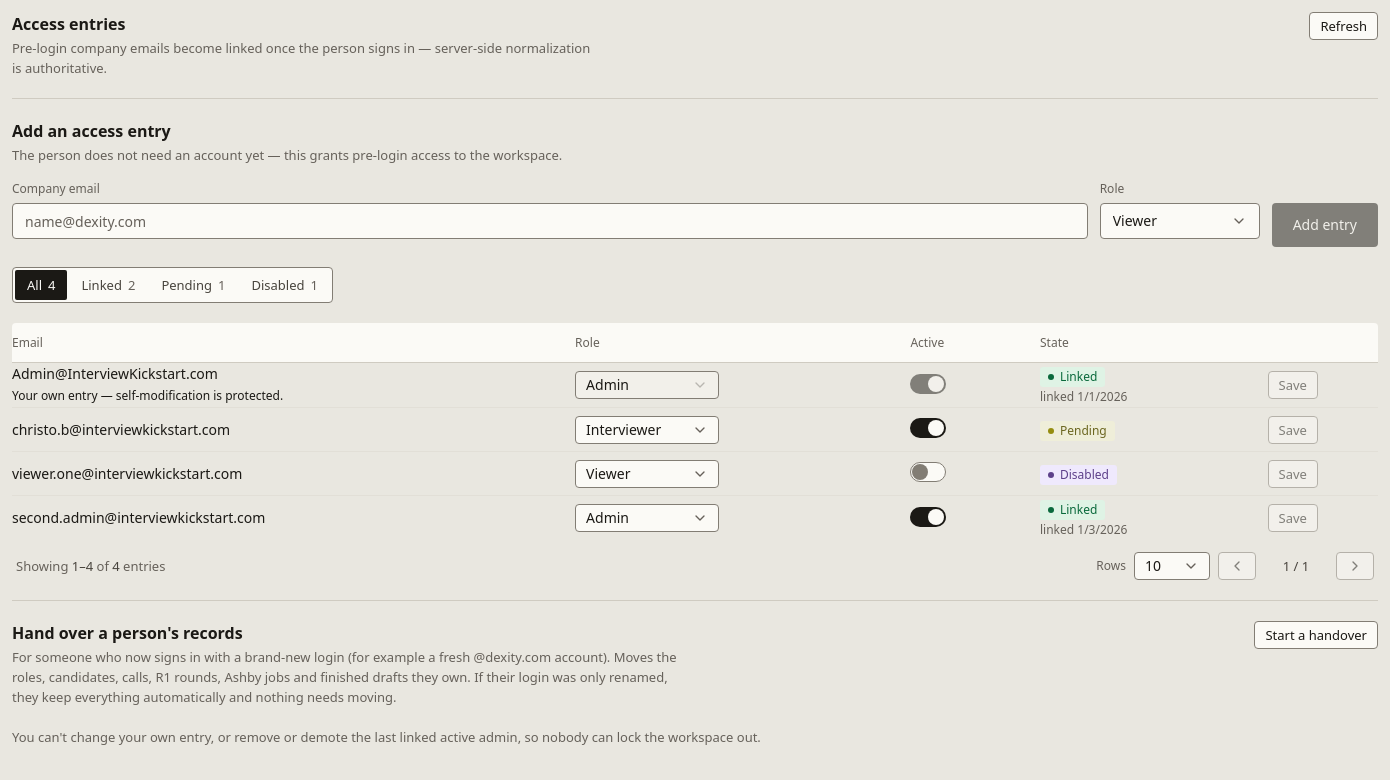
Test: AccessSection › filters the list by state
This screenshot has width=1390, height=780.
Check: the heading "Access entries" is shown, box [12,12,126,36]
Step 1. Click the button "Pending 1" → (193, 285), box [149,270,237,300]
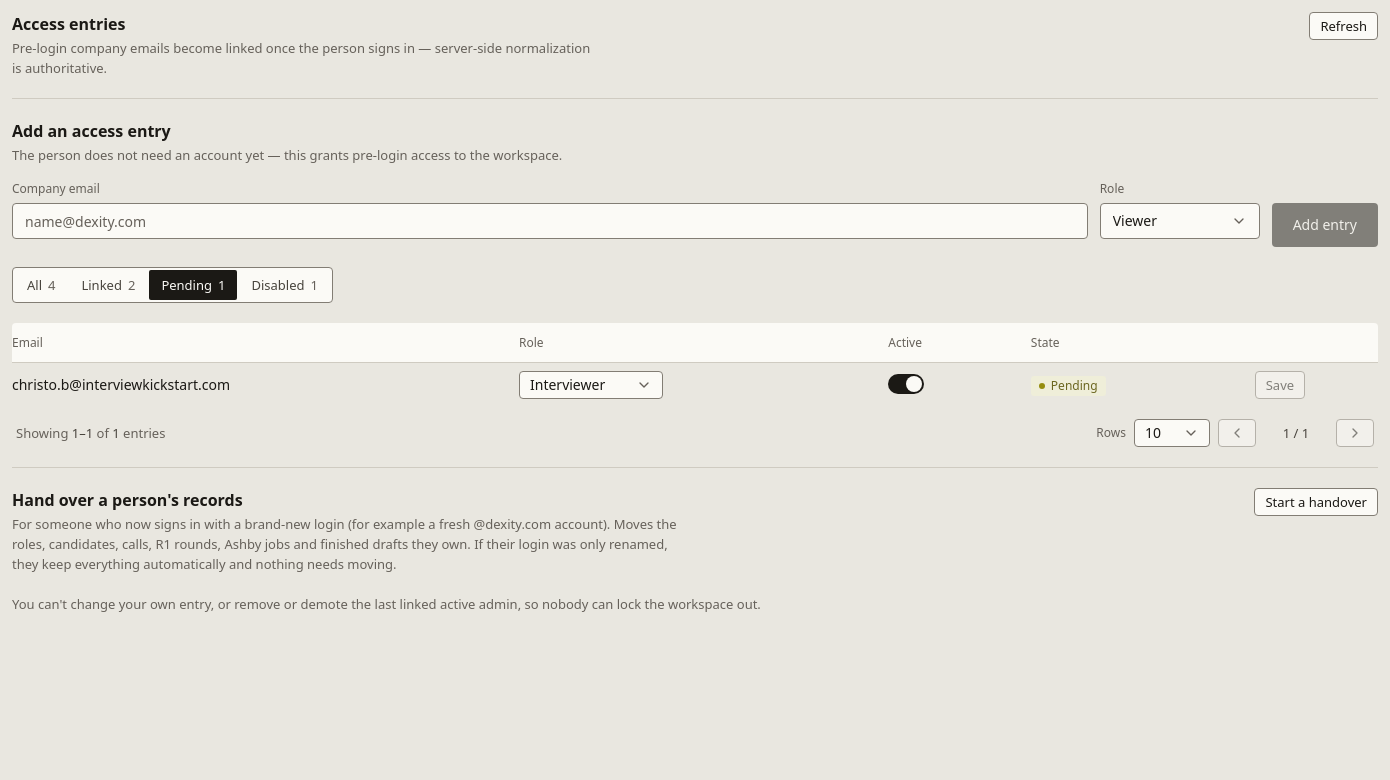
Check: the text "christo.b@interviewkickstart.com" is shown, box [12,375,230,394]
Check: the text "second.admin@interviewkickstart.com" is gone
Check: the text "viewer.one@interviewkickstart.com" is gone
